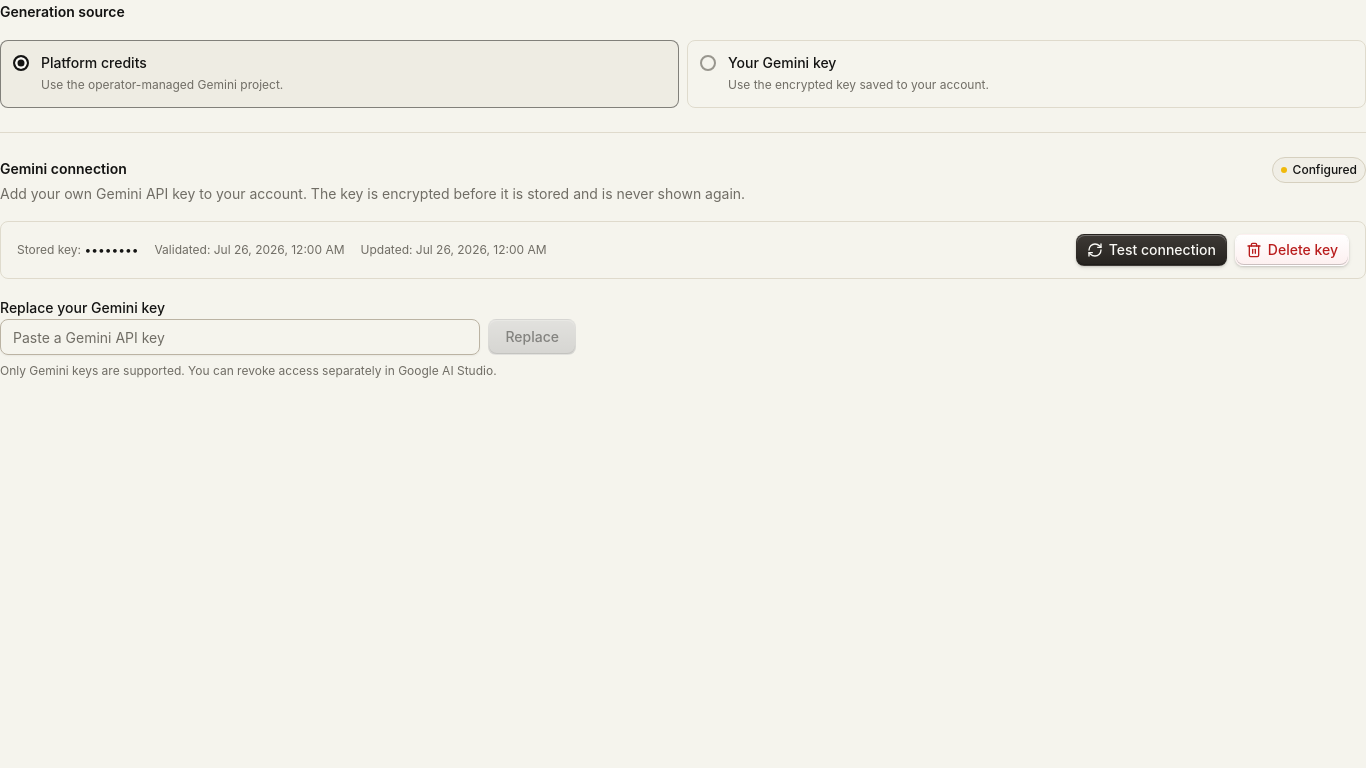
Scenario: WorkspaceAiCredentialCard › uses an in-app confirmation before deleting a saved key
Later steps or results of the test are not shown.
Click the button "Delete key" at point(1292, 250), box x1=1235 y1=234 x2=1349 y2=266
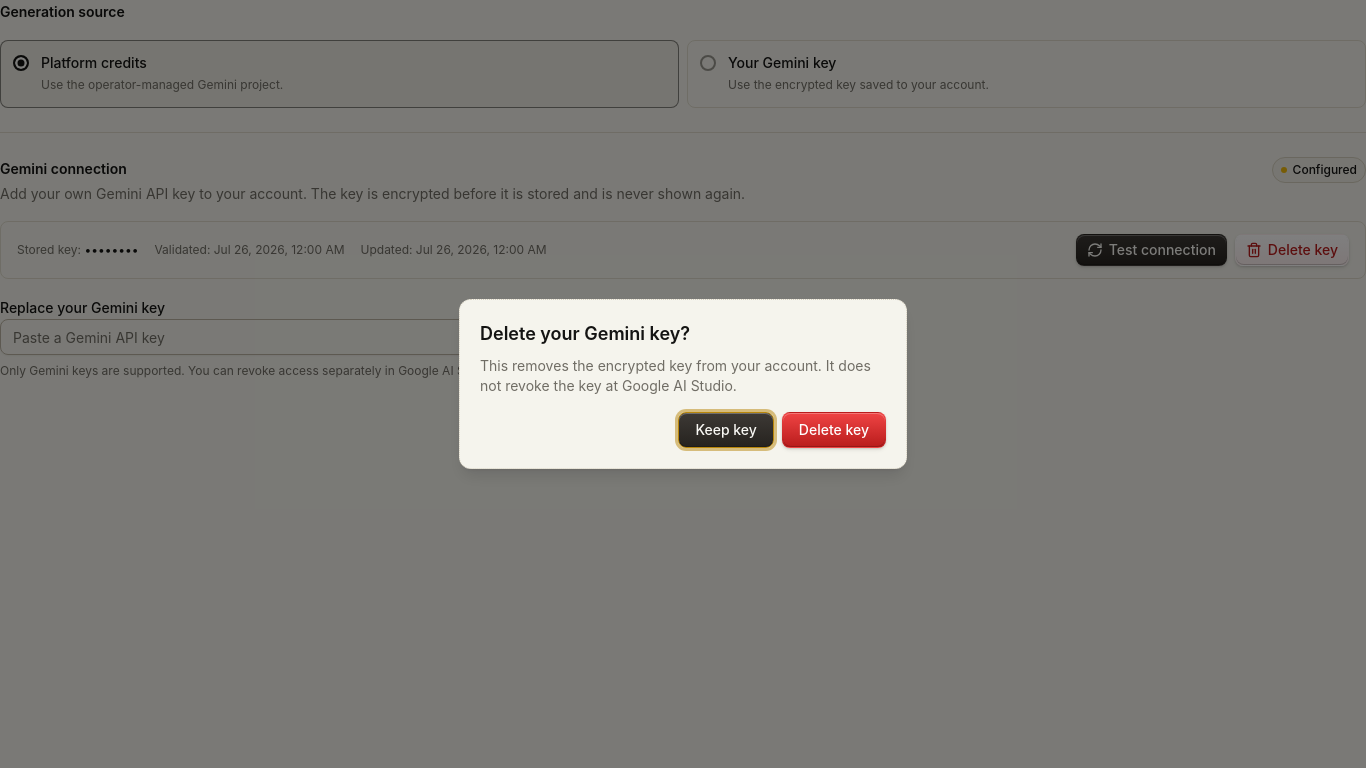
Expected: the dialog shows "Delete", x1=480 y1=323 x2=690 y2=344
Expected: the dialog shows "google", x1=480 y1=357 x2=871 y2=394
